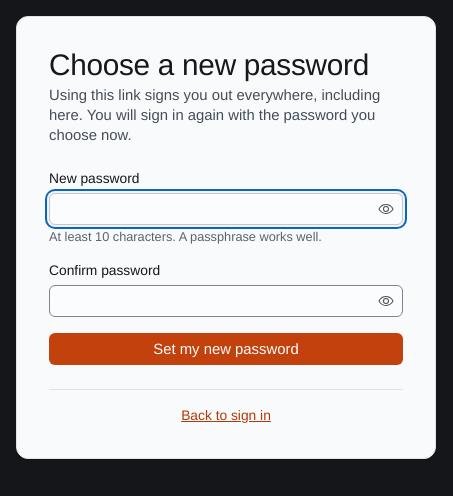
Scenario: ResetPasswordPage › asks for the two passwords to match
The image size is (453, 496).
Step 1. Type "analytical-engine-1843" into the password field labelled "New password" → (212, 209), box [50,194,374,224]
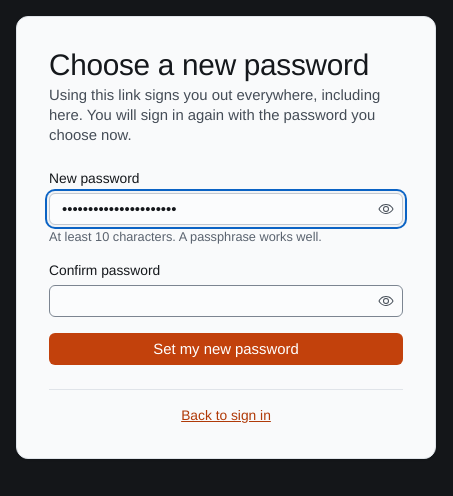
Step 2. Type "analytical-engine-1844" into the password field labelled "Confirm password" → (212, 301), box [50,286,374,316]
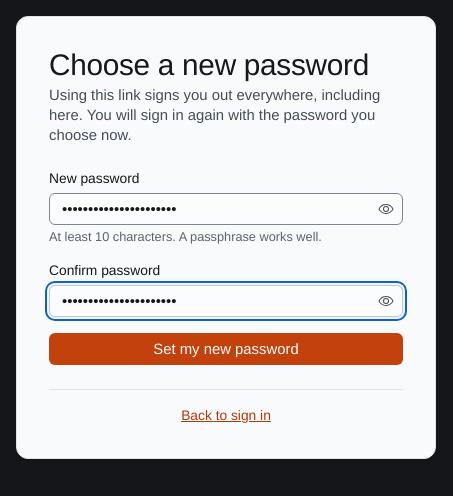
Step 3. Click the button "Set my new password" → (226, 349), box [49,333,403,365]
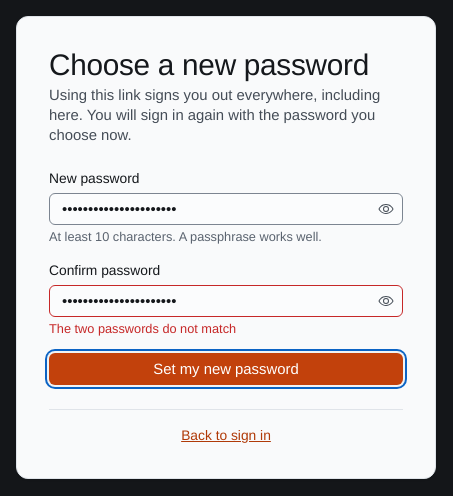
Result: the text "The two passwords do not match" is shown at [49,321,236,337]
